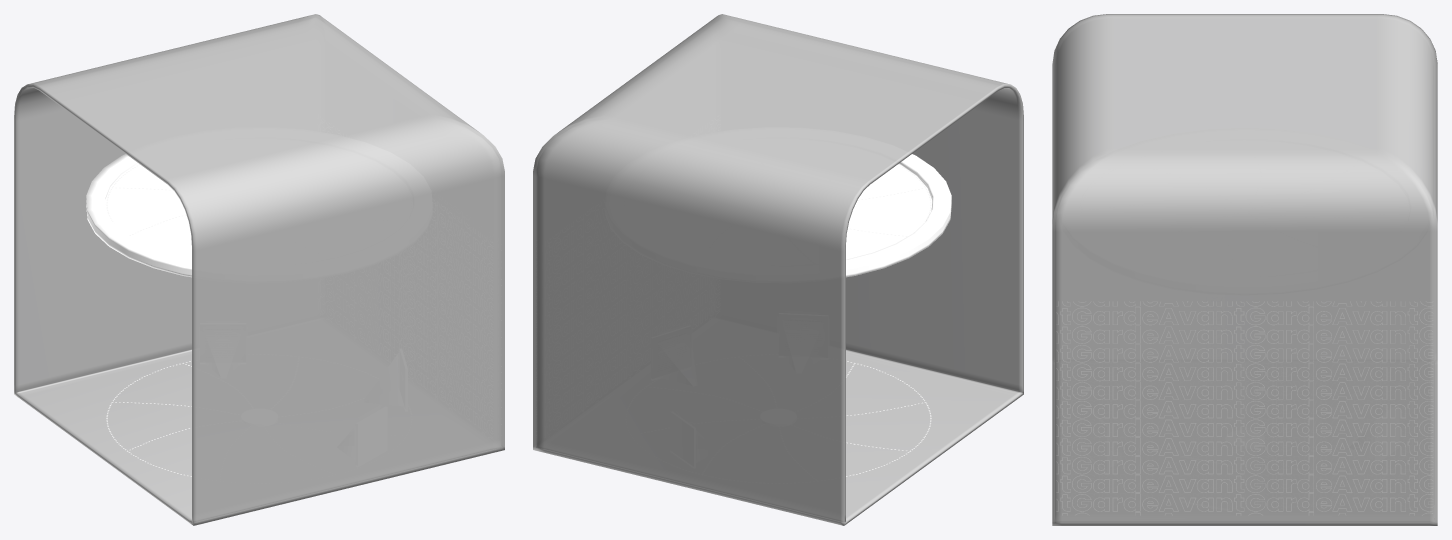
The picture shows the model from 3 angles, left to right: view 1: azimuth 30°, elevation 25°; view 2: azimuth 150°, elevation 25°; view 3: azimuth 270°, elevation 25°; orthographic projection. The views are drawn at different scales.
Visible parts, largest first — view 1: Box, Cylinder.043; view 2: Box, Cylinder.043; view 3: Box, Plane.001.
Boxes of the visible parts, <box> form: Box: <box>14,14,504,525</box>; Cylinder.043: <box>86,154,191,277</box>; Box: <box>533,14,1023,525</box>; Cylinder.043: <box>846,154,951,277</box>; Box: <box>1052,14,1437,525</box>; Plane.001: <box>1058,303,1425,513</box>.
Size of what is drawn, in the model's own units: 30.01 by 30 by 30.01.
8 materials, 4 textured.
